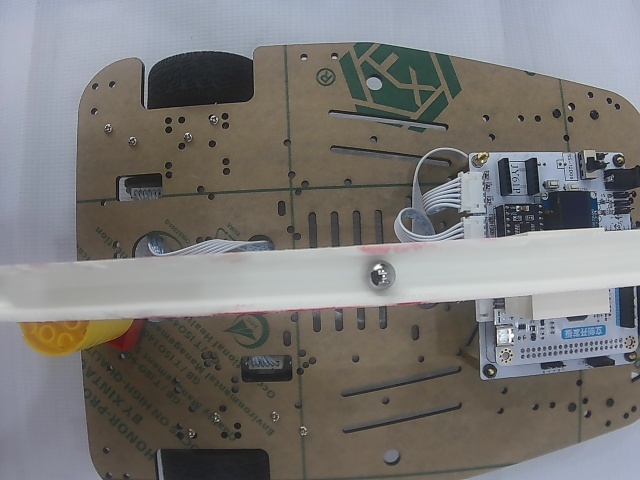steelball: (367, 261, 396, 290)
